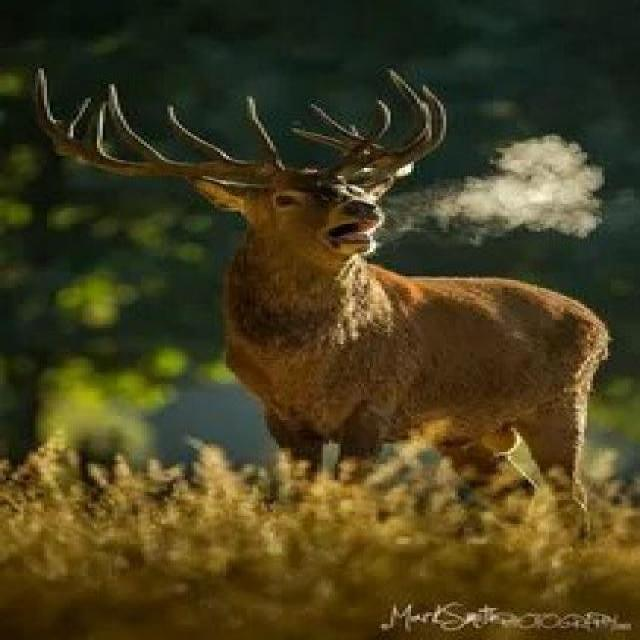deer: (52, 54, 640, 526)
